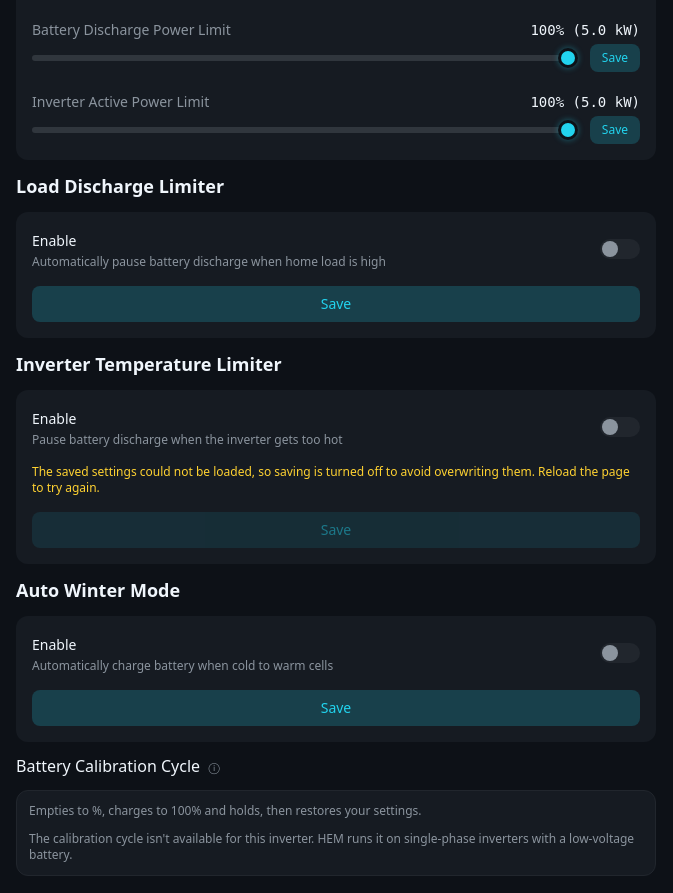
Test case: <ControlPage/> — Auto Winter save › posts the loaded configuration and confirms it
(page scrolled)
Click the button "Save" below "Auto Winter Mode" at {"x": 336, "y": 708}, box [32,690,640,726]
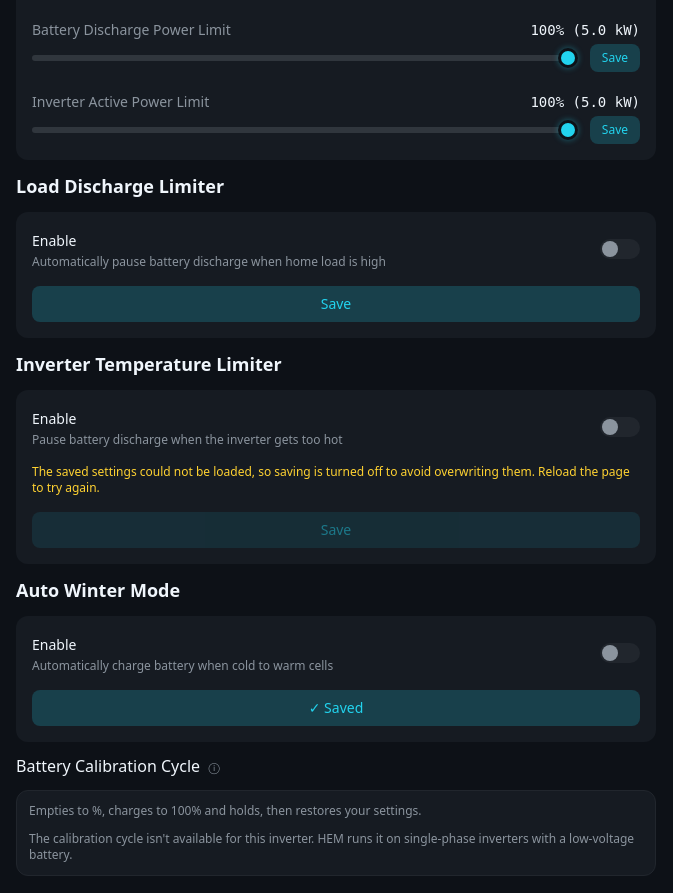
expect the button "✓ Saved" is shown: met, box [32,690,640,726]
